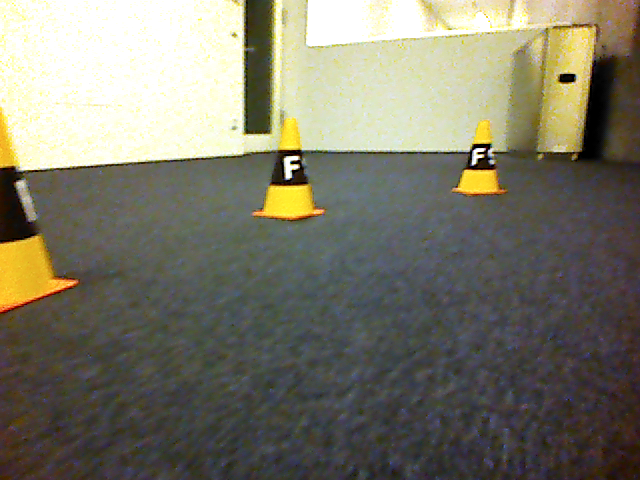yellowcone: (1, 96, 82, 316), (253, 115, 326, 222), (450, 119, 509, 197)
